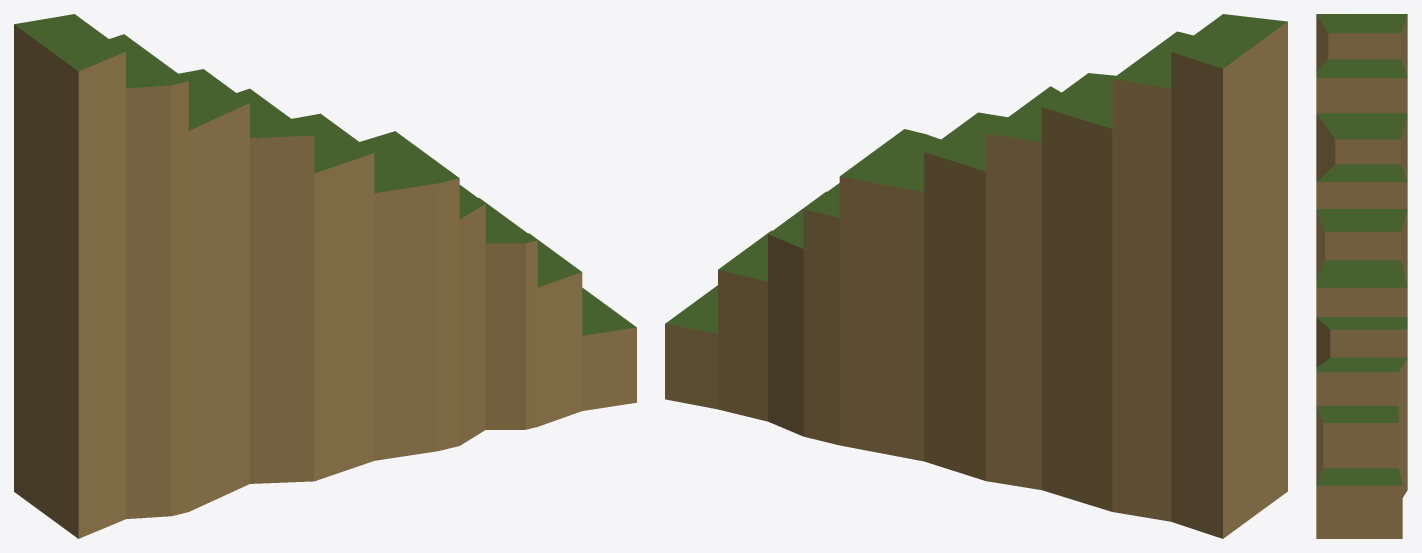
The model's file is Terrain_Tile_Grass_Dirt_Stairs_01.fbx.
The picture shows the model from 3 angles, left to right: view 1: azimuth 30°, elevation 25°; view 2: azimuth 150°, elevation 25°; view 3: azimuth 270°, elevation 25°; orthographic projection. The views are drawn at different scales.
Parts seen in each view (by area): view 1: Model; view 2: Model; view 3: Model.
Part boxes in pixels (x1,y1,x2,y2): Model: (14,14,636,538); Model: (665,14,1287,538); Model: (1316,14,1407,538).
Bounding box in the file's own units: 2500 × 2000 × 500.
